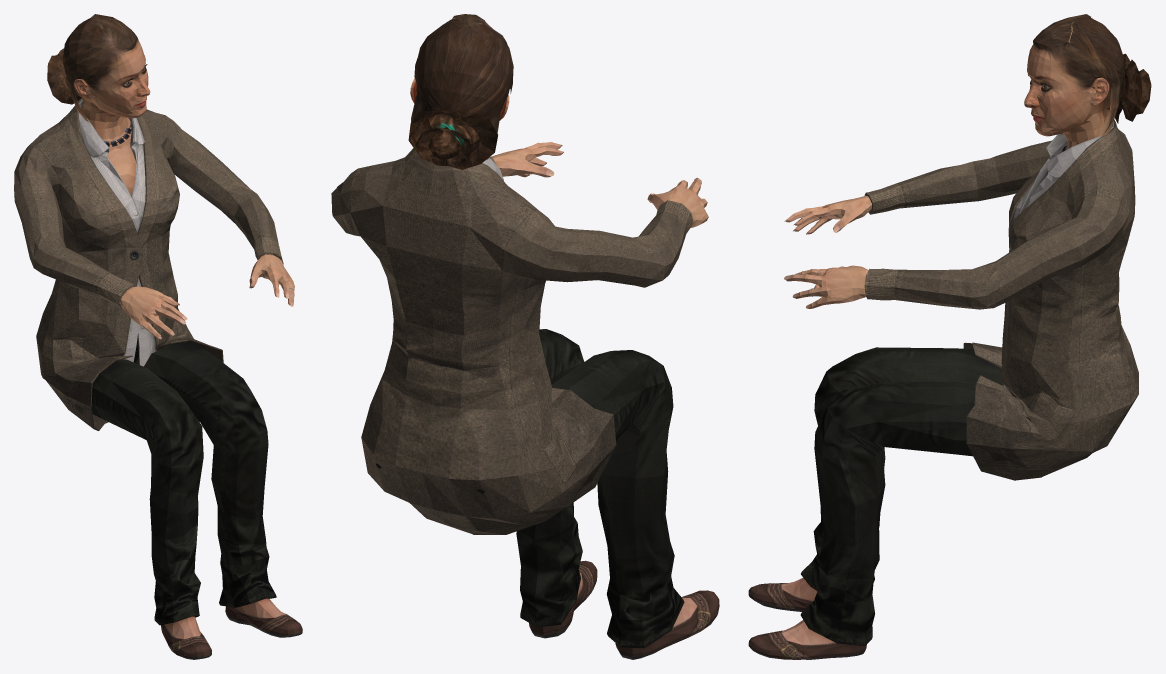
Rendered from female-adult-09.obj.
The picture shows the model from 3 angles, left to right: view 1: azimuth 30°, elevation 25°; view 2: azimuth 150°, elevation 25°; view 3: azimuth 270°, elevation 25°; orthographic projection. The views are drawn at different scales.
Parts seen in each view (by area): view 1: f009_hipoly_81_bones_opacity_0, Head_1, f009_hipoly_81_bones_opacity_2; view 2: f009_hipoly_81_bones_opacity_0, Head_1, f009_hipoly_81_bones_opacity_2; view 3: f009_hipoly_81_bones_opacity_0, Head_1, f009_hipoly_81_bones_opacity_2.
Boxes of the visible parts, x1,y1,x2,y2 form: f009_hipoly_81_bones_opacity_0: (14, 98, 302, 659); Head_1: (63, 18, 150, 175); f009_hipoly_81_bones_opacity_2: (47, 14, 147, 121); f009_hipoly_81_bones_opacity_0: (331, 142, 719, 659); Head_1: (410, 19, 512, 159); f009_hipoly_81_bones_opacity_2: (408, 14, 513, 169); f009_hipoly_81_bones_opacity_0: (748, 119, 1138, 659); Head_1: (1024, 17, 1131, 149); f009_hipoly_81_bones_opacity_2: (1028, 14, 1151, 137).
Size of the model in its own units: 0.6029 by 1.35 by 0.8025.
Materials: 3 (3 with a texture image).
